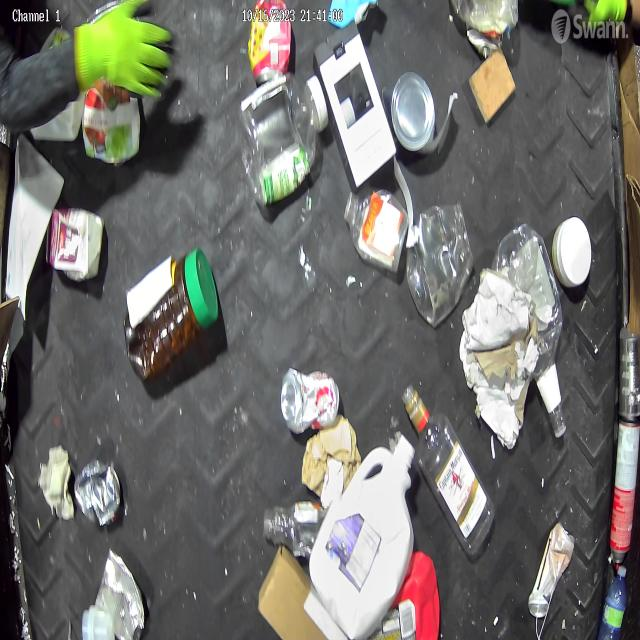can: (95, 545, 145, 640), (609, 416, 640, 569), (528, 522, 576, 619), (280, 367, 341, 435), (247, 0, 292, 86), (391, 71, 436, 153), (72, 456, 122, 528), (618, 327, 640, 416)
milk_jug: (309, 431, 414, 640)
non_white_jug: (368, 549, 442, 640)
plastic_bottle: (598, 561, 628, 640)
